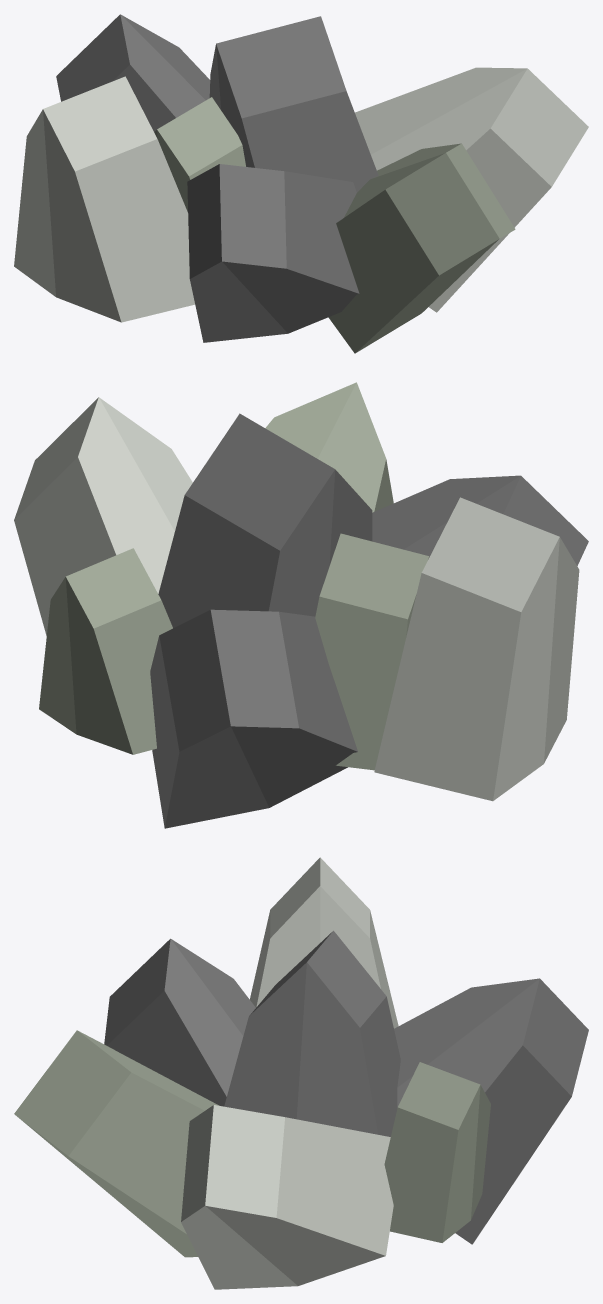
File: rock-type3-04-green.glb
3 views of the same model, one above another, from view 1: azimuth 30°, elevation 25°; view 2: azimuth 150°, elevation 25°; view 3: azimuth 270°, elevation 25° (orthographic). The views are drawn at different scales.
Parts seen in each view (by area): view 1: Rock_Type3_04_mesh; view 2: Rock_Type3_04_mesh; view 3: Rock_Type3_04_mesh.
Part boxes in pixels (box(x1,y1,x2,y2)): Rock_Type3_04_mesh: box(14, 14, 588, 353); Rock_Type3_04_mesh: box(14, 382, 588, 828); Rock_Type3_04_mesh: box(14, 857, 588, 1289).
Bounding box in the file's own units: 1.29 × 0.7066 × 1.26.
Materials: 1 (1 with a texture image).
